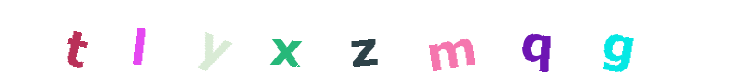G: (578, 0, 658, 80)
L: (156, 0, 236, 80)
M: (395, 0, 475, 80)
Q: (497, 0, 577, 80)
T: (35, 0, 115, 80)
X: (324, 0, 404, 80)
Y: (248, 0, 328, 80)
Z: (327, 0, 407, 80)
